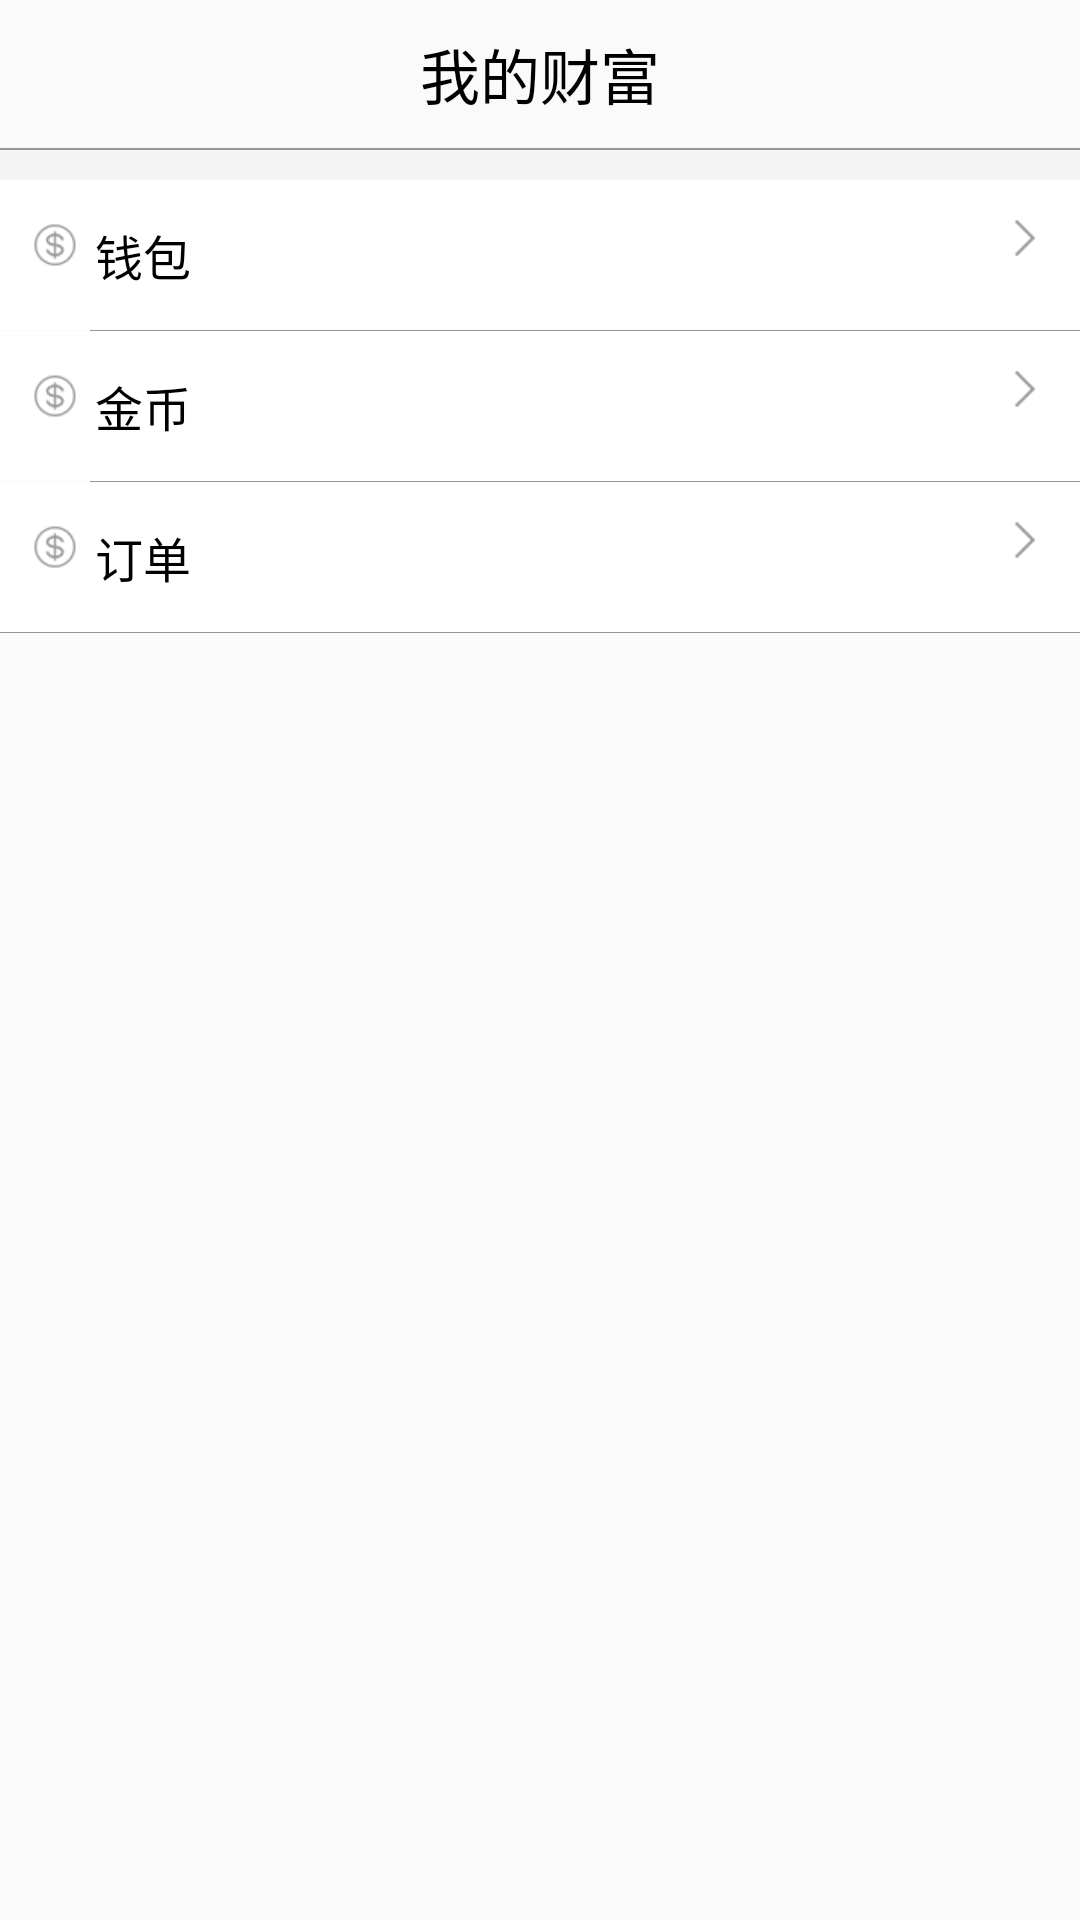

Icon click points for this 1080 × 1920 phone screenshot, format [x,y]:
ndf item coin: [55,245], [55,396], [55,547]
